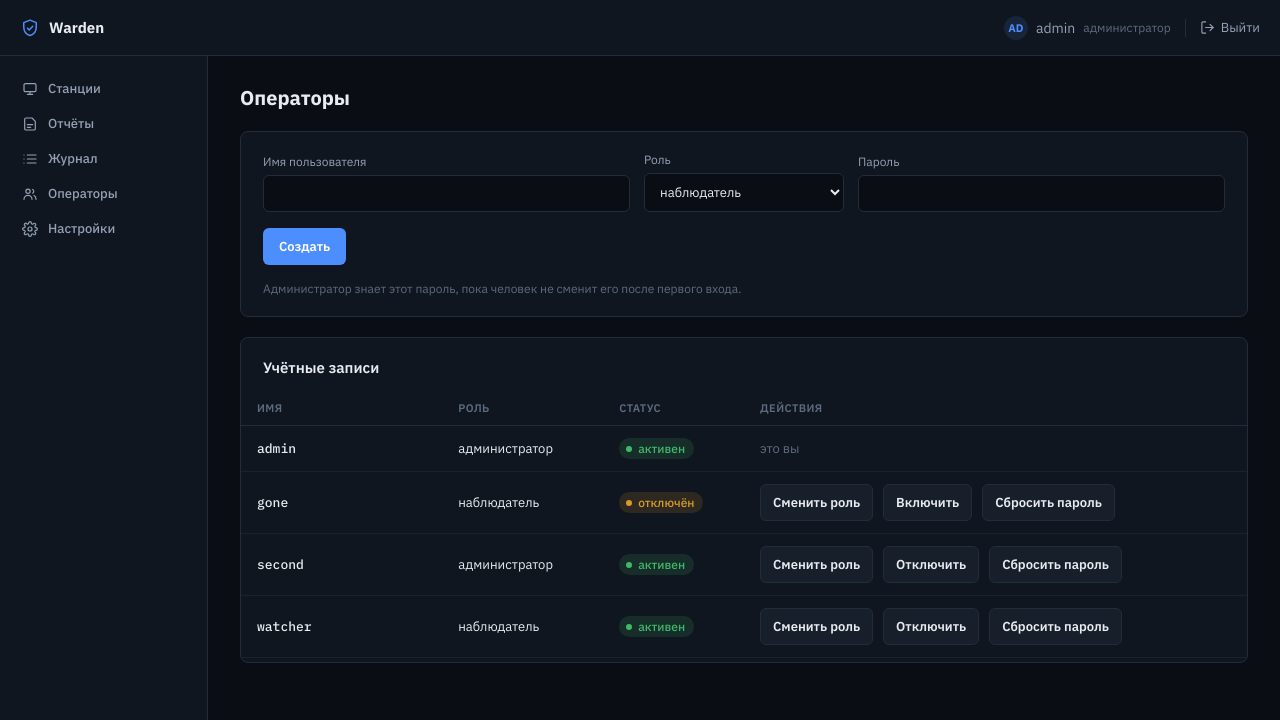
Scenario: OperatorsPage create › explains a refused name or password
The image size is (1280, 720).
Expected: the row that starts with "watcher" is shown, [241,596,1247,658]
Type "colleague" into the field labelled "Имя пользователя".
click(446, 194); type("colleague")  # box [263,175,630,212]
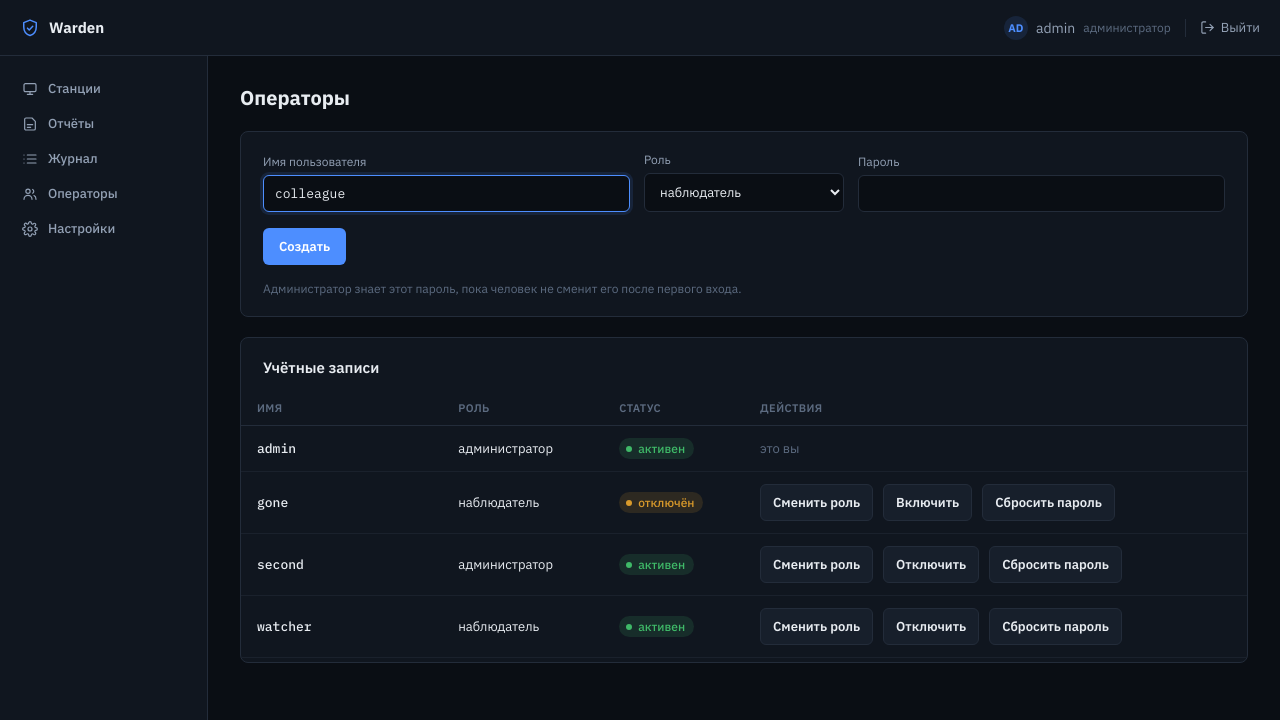
Select "наблюдатель" in the dropdown labelled "Роль" at (744, 192), box [644,173,844,212]
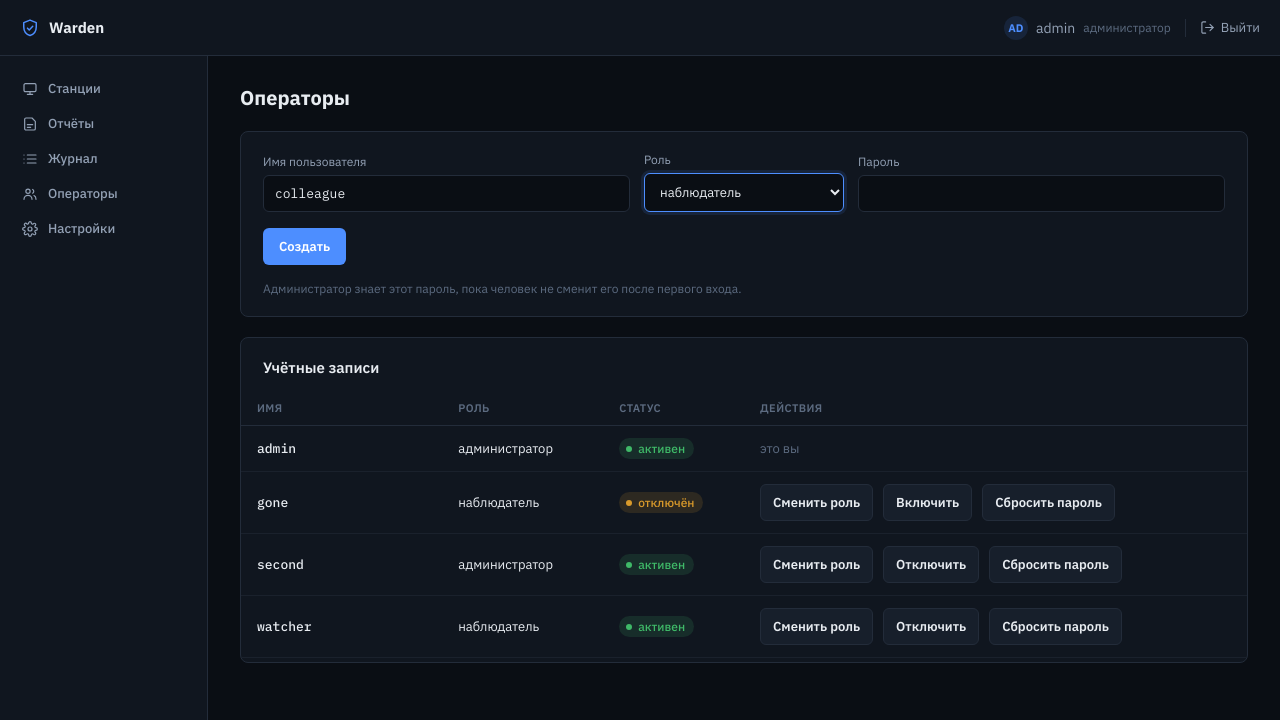
Type "short" into the password field labelled "Пароль".
click(1042, 194); type("short")  # box [858,175,1225,212]
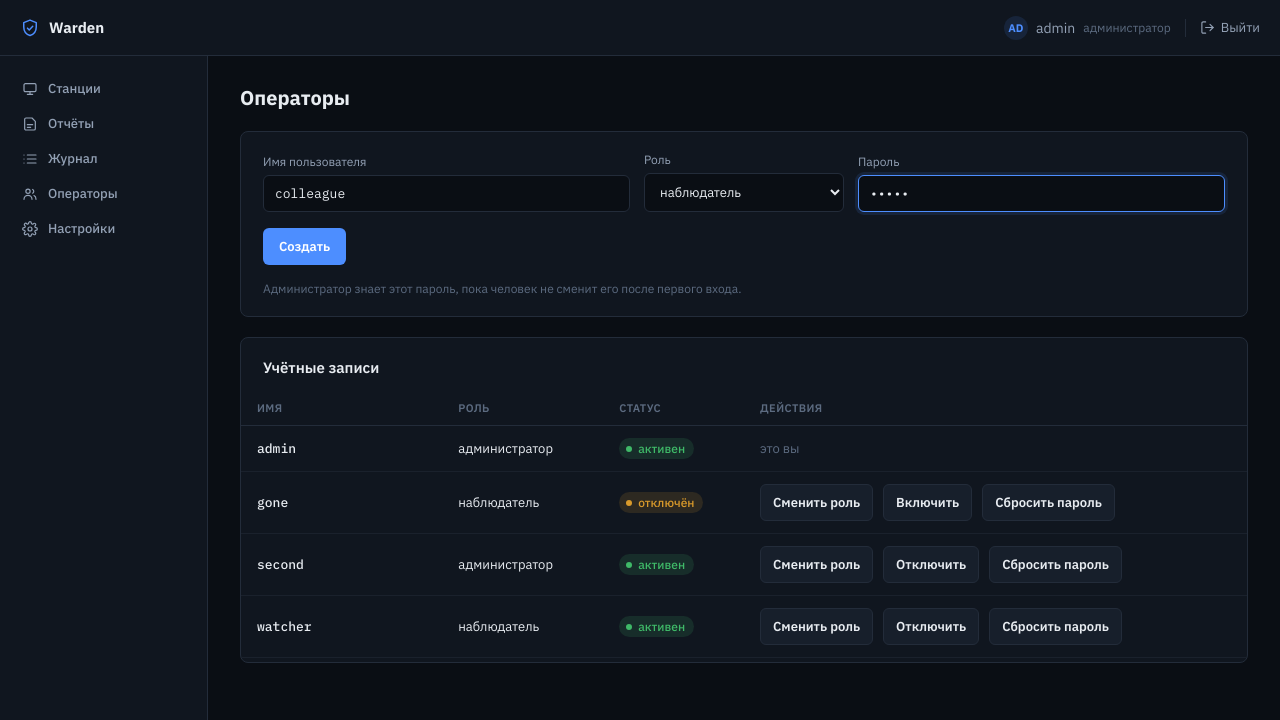
Click the button "Создать".
click(305, 246)  # box [263,228,346,265]
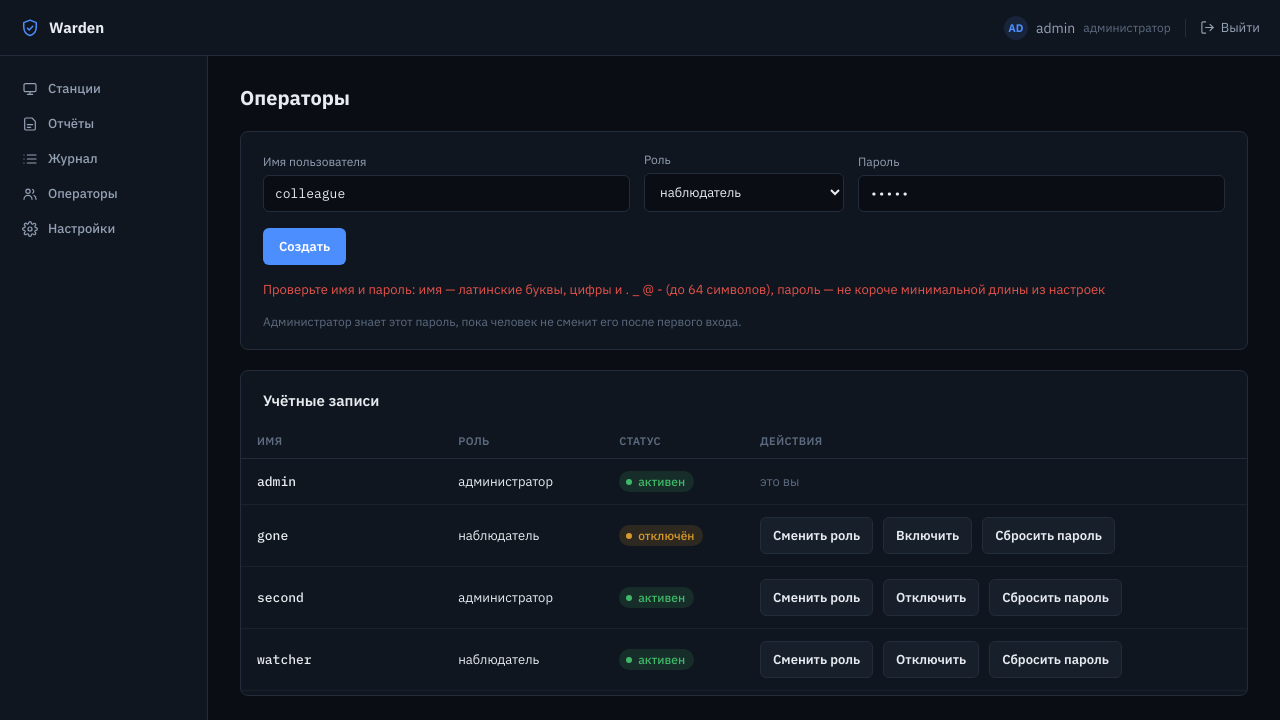
Expected: the text "Проверьте имя и пароль" is shown, [263,281,1105,298]
